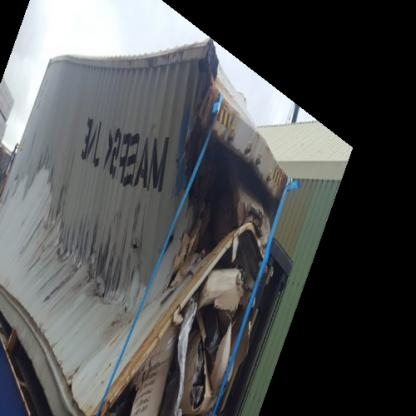Damage: (8, 55, 290, 415)
